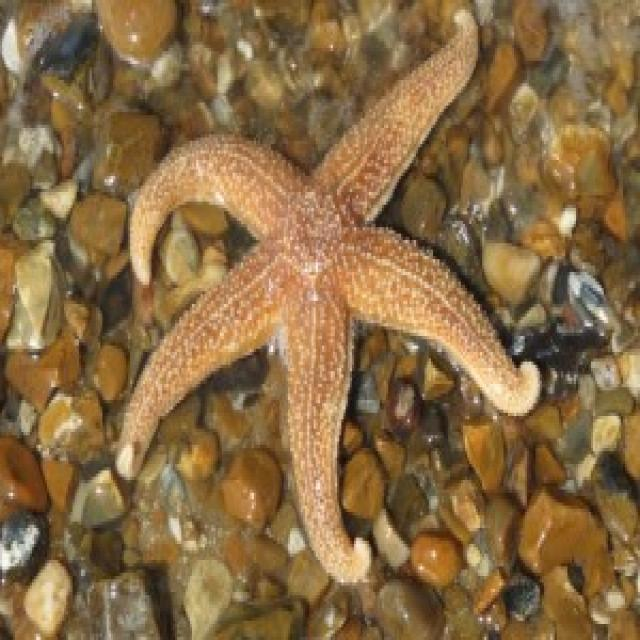Starfish: (117, 7, 543, 582)
